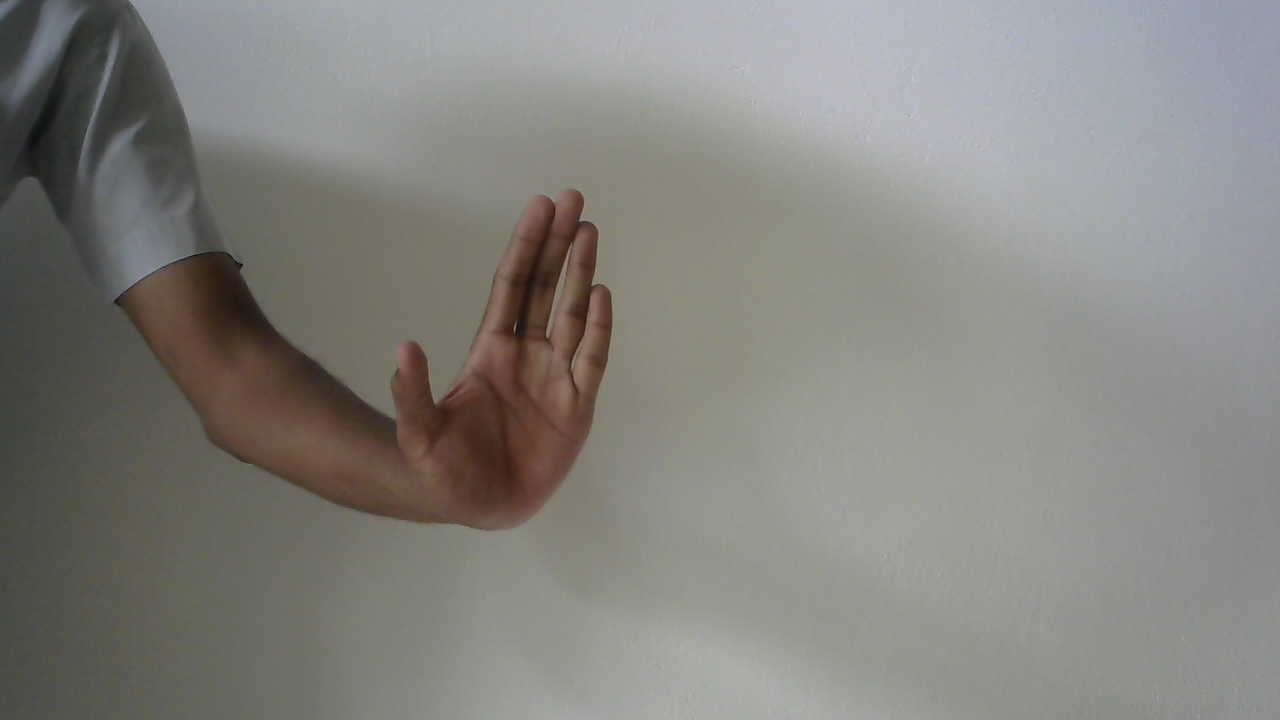hello: (382, 181, 626, 543)
